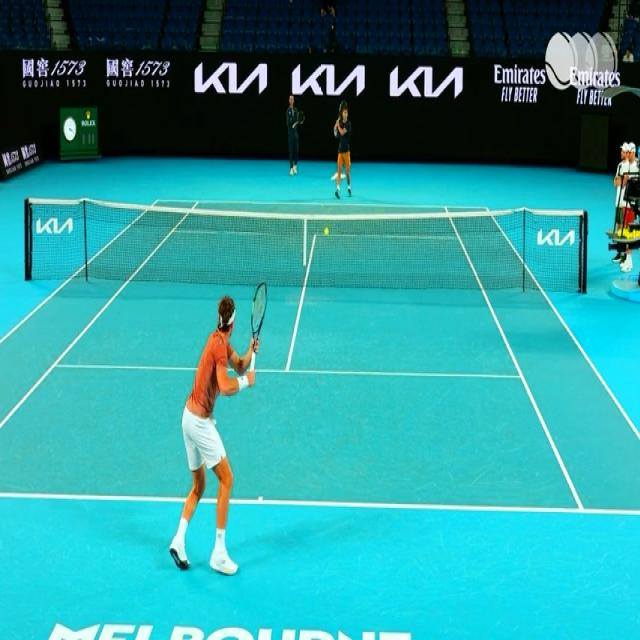forehand-ready: (170, 282, 268, 574)
